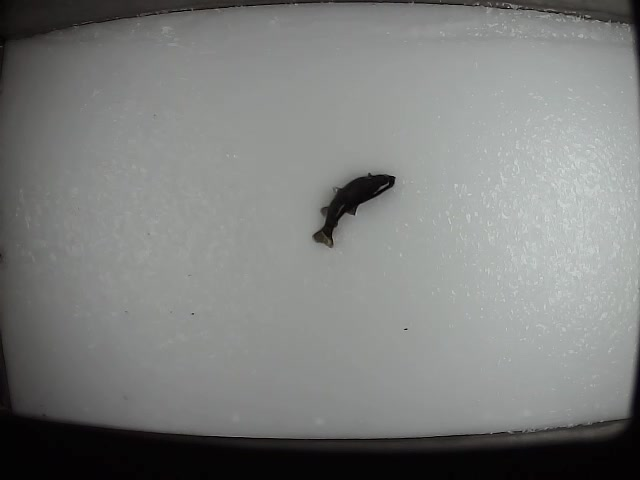Fish: (311, 170, 395, 248)
